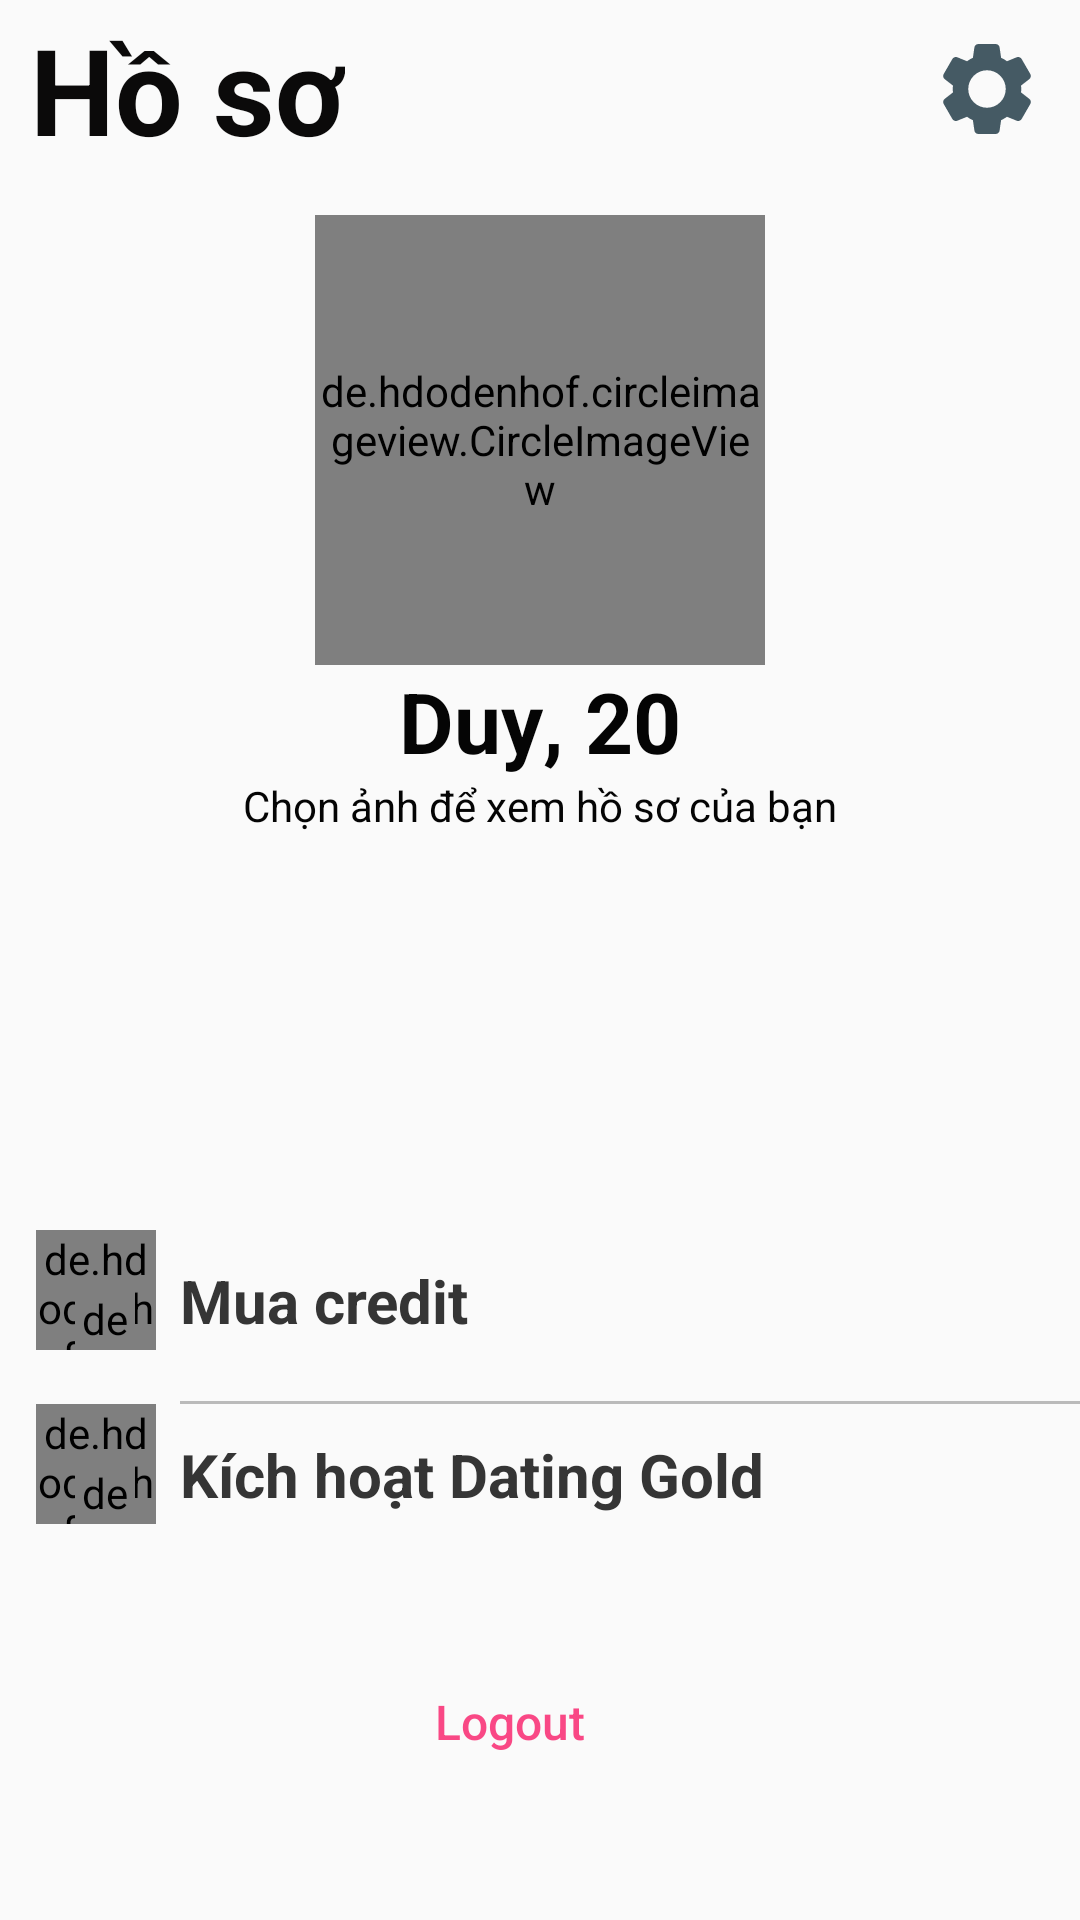

Point at icon controls on the screen. Image size 1080 x 1920, points as (x,y).
setting: (987,89)
